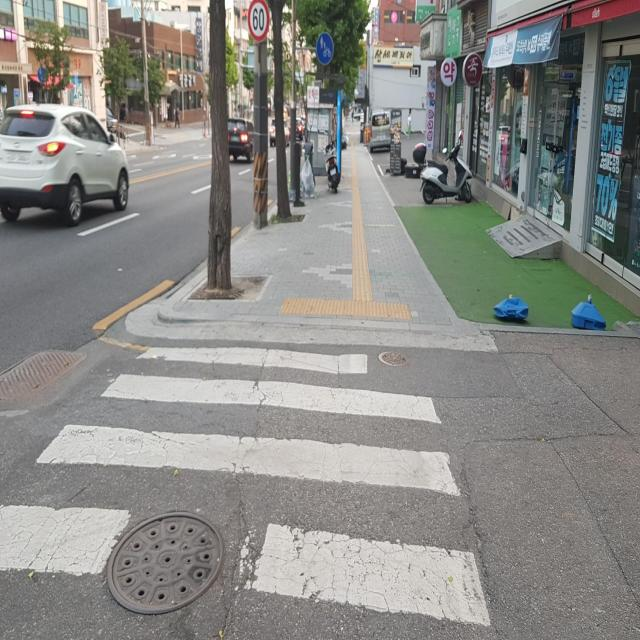횡단보도: (0, 348, 491, 639)
